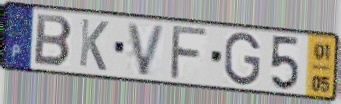5: (268, 33, 302, 92)
B: (32, 12, 75, 69)
F: (167, 24, 211, 82)
G: (223, 30, 262, 87)
K: (77, 16, 111, 74)
V: (126, 20, 169, 78)
